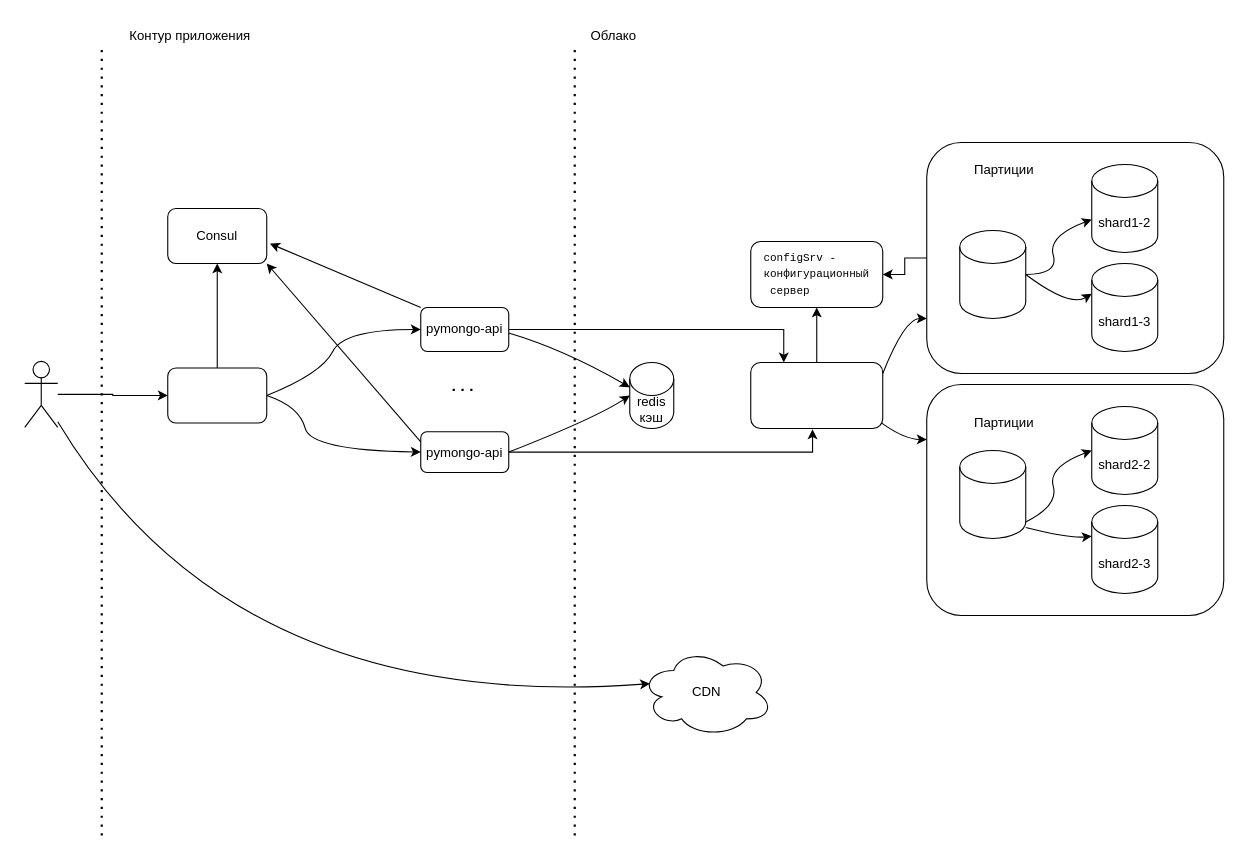
This 1243x856 diagram has some shape labels left out. Each missing label, with the centre of its shape:
"APISIX Gateway" belongs at [217,395].
"mongos_router - роутер" belongs at [816,394].
"shard1-1" belongs at [992,273].
"shard2-1" belongs at [992,493].
"Клиент" belongs at [41,393].
